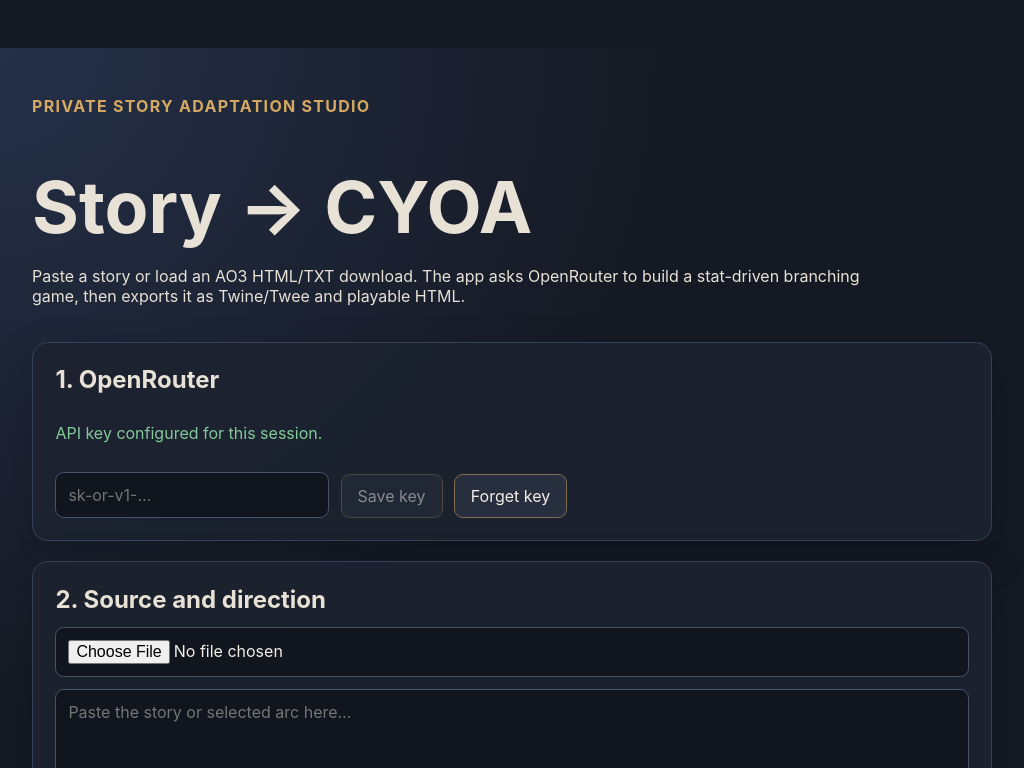
it: QuickGenerator generation controls › keeps the configured state and reports a network failure while forgetting a key
Click the button "Forget key". click: (510, 496)
box: [454,474,567,518]
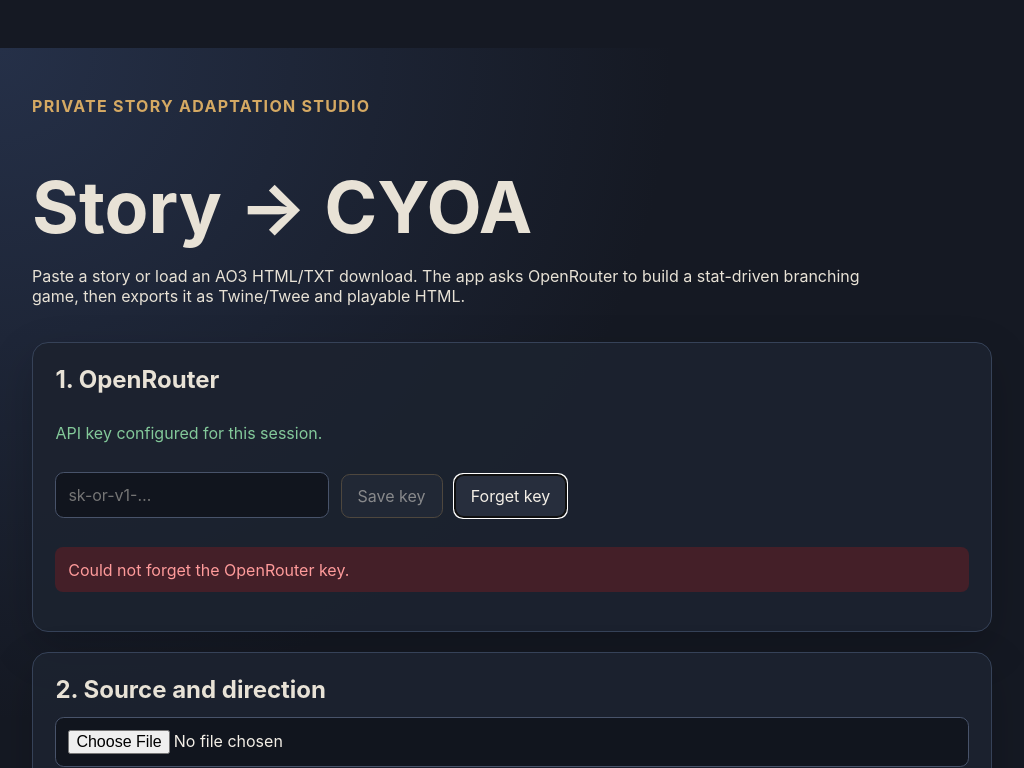
Check: the message reads "Could not forget the OpenRouter key.", box [68,560,349,580]
